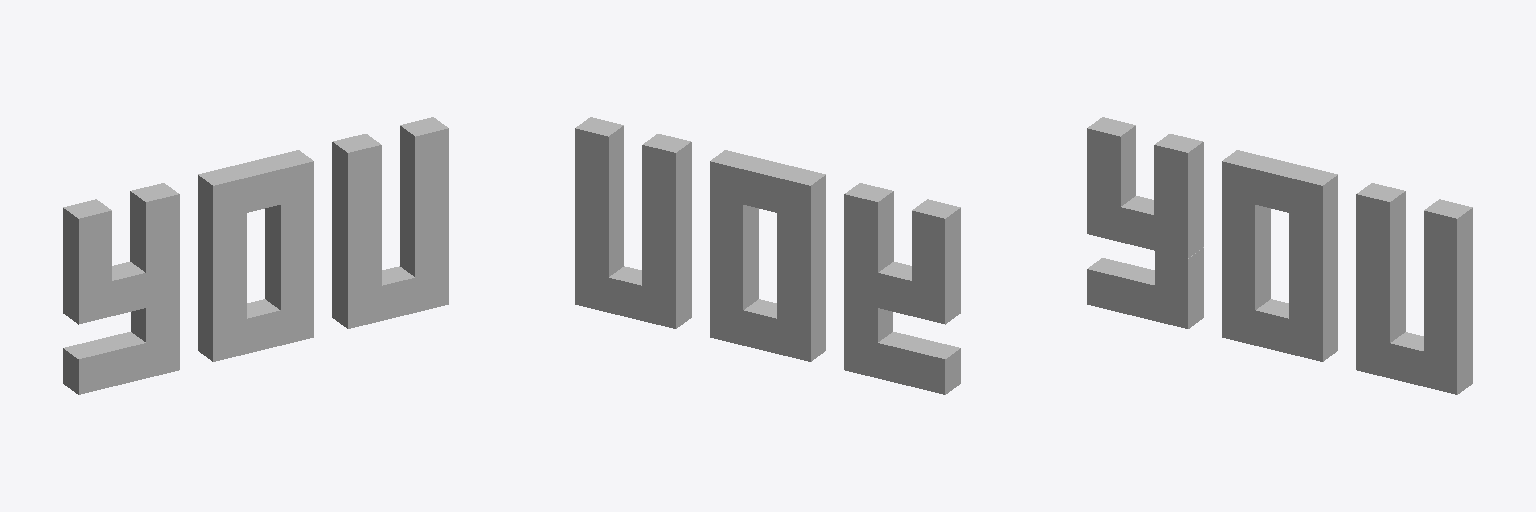
Rendered from you.obj.
3 views of the same model, side by side, from view 1: azimuth 30°, elevation 25°; view 2: azimuth 150°, elevation 25°; view 3: azimuth 330°, elevation 25° (orthographic).
Visible parts, largest first — view 1: Text.001; view 2: Text.001; view 3: Text.001.
Boxes of the visible parts, <box> form: Text.001: <box>63,117,448,394</box>; Text.001: <box>575,117,960,394</box>; Text.001: <box>1087,117,1472,394</box>.
Bounding box in the file's own units: 1.38 × 0.625 × 0.1.